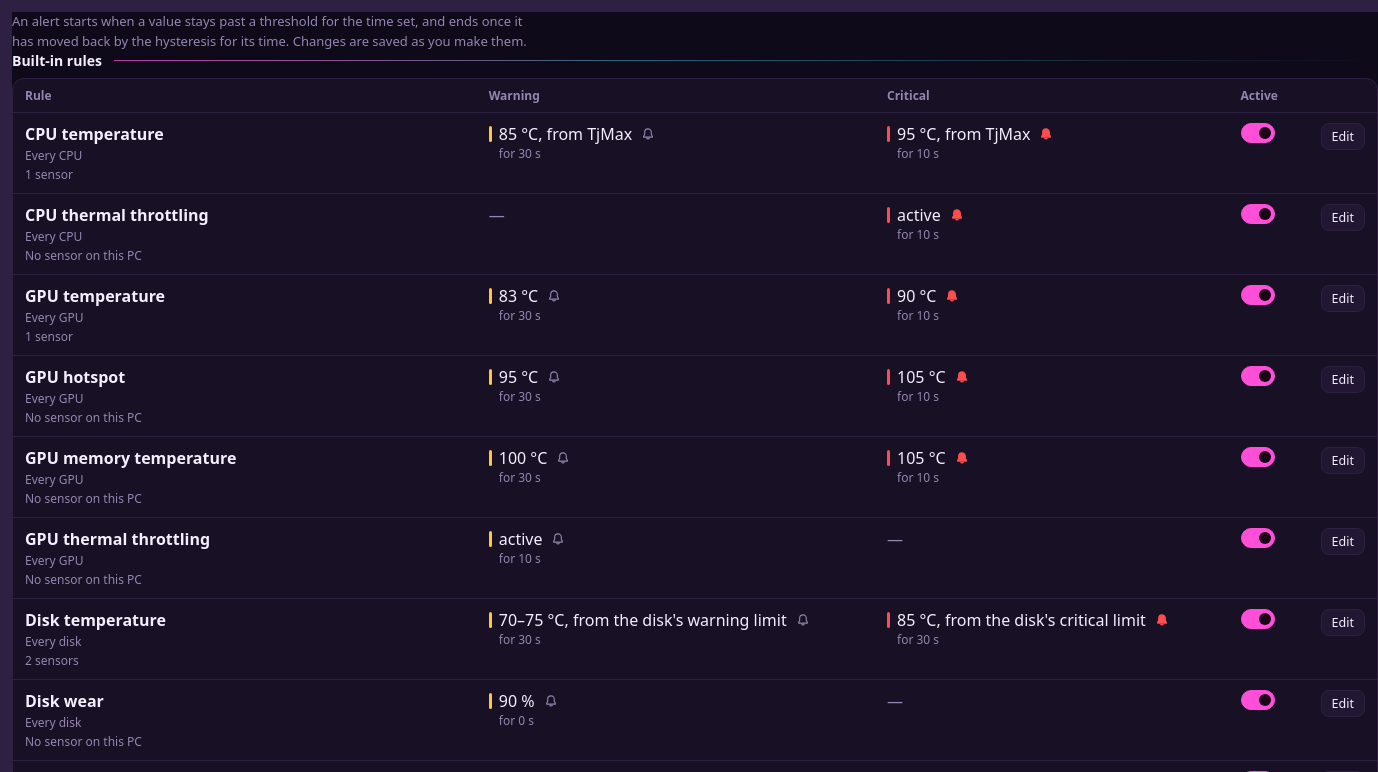
Scenario: editing_a_threshold_sends_a_fixed_override
Check: the row "GPU temperature" is shown, box [13,274,1377,356]
Click the button "Edit" in the row of "CPU temperature". click: (1343, 136)
box: [1321,123,1365,150]
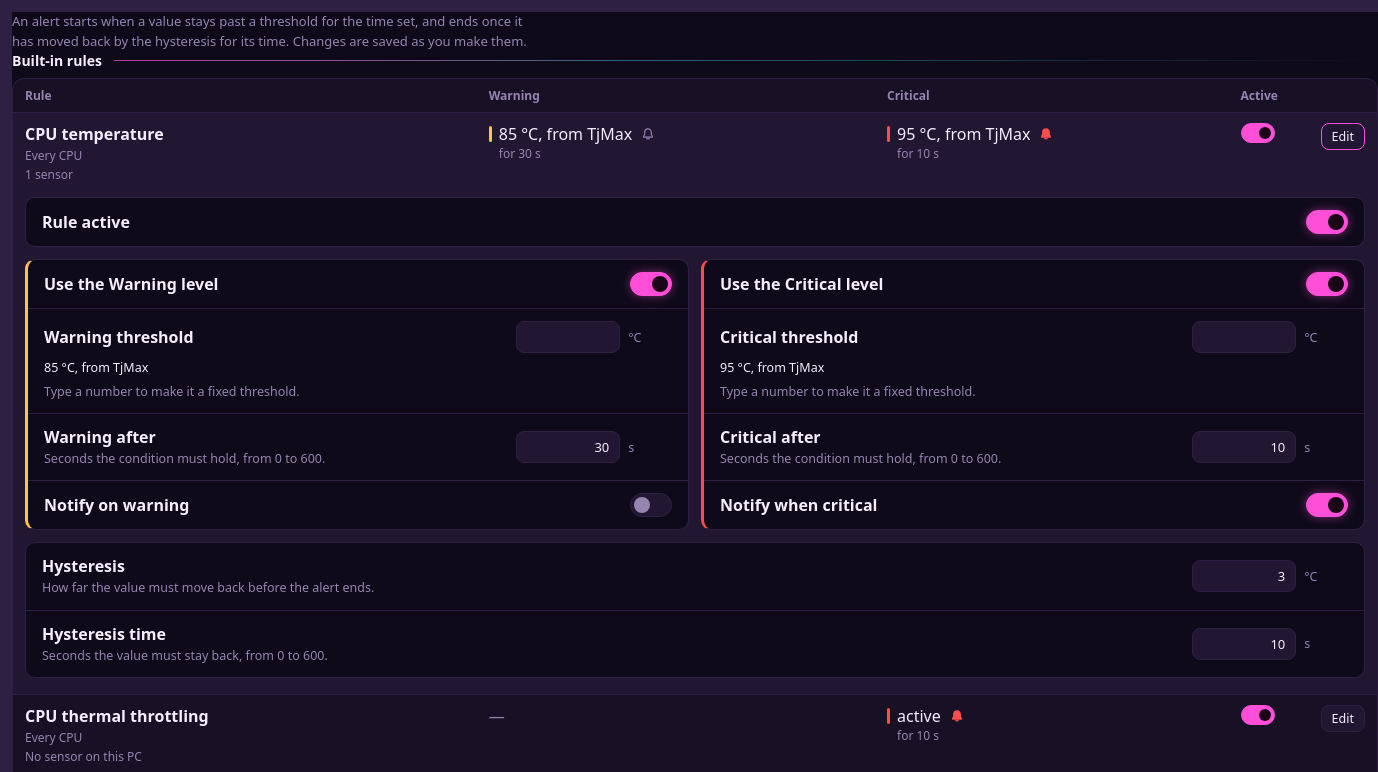
Check: the text "95 °C, from TjMax" below "Critical threshold" is shown, box [720,359,824,376]
Type "100" into the field labelled "Critical threshold". click: (1244, 337)
box: [1192,321,1296,353]
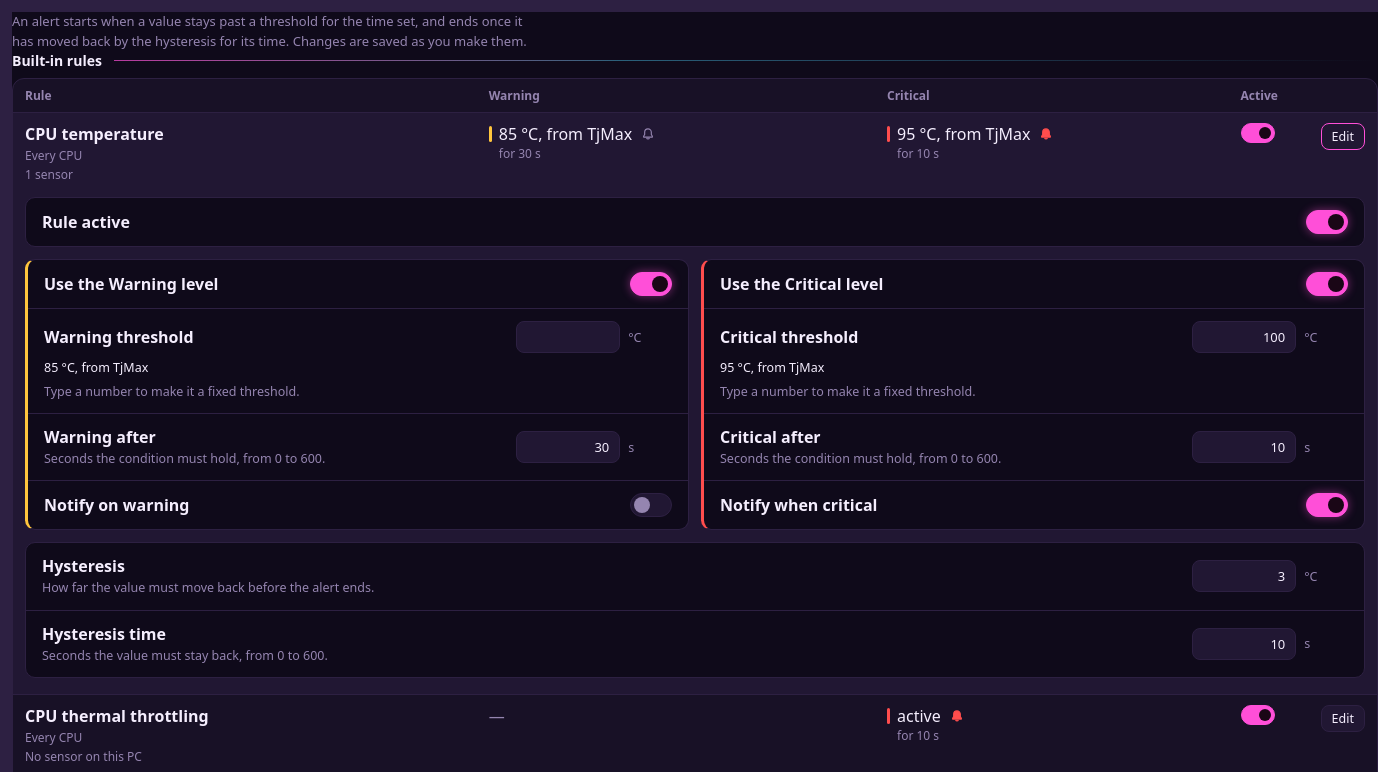
Press Enter in the field labelled "Critical threshold", box [1192,321,1296,353]
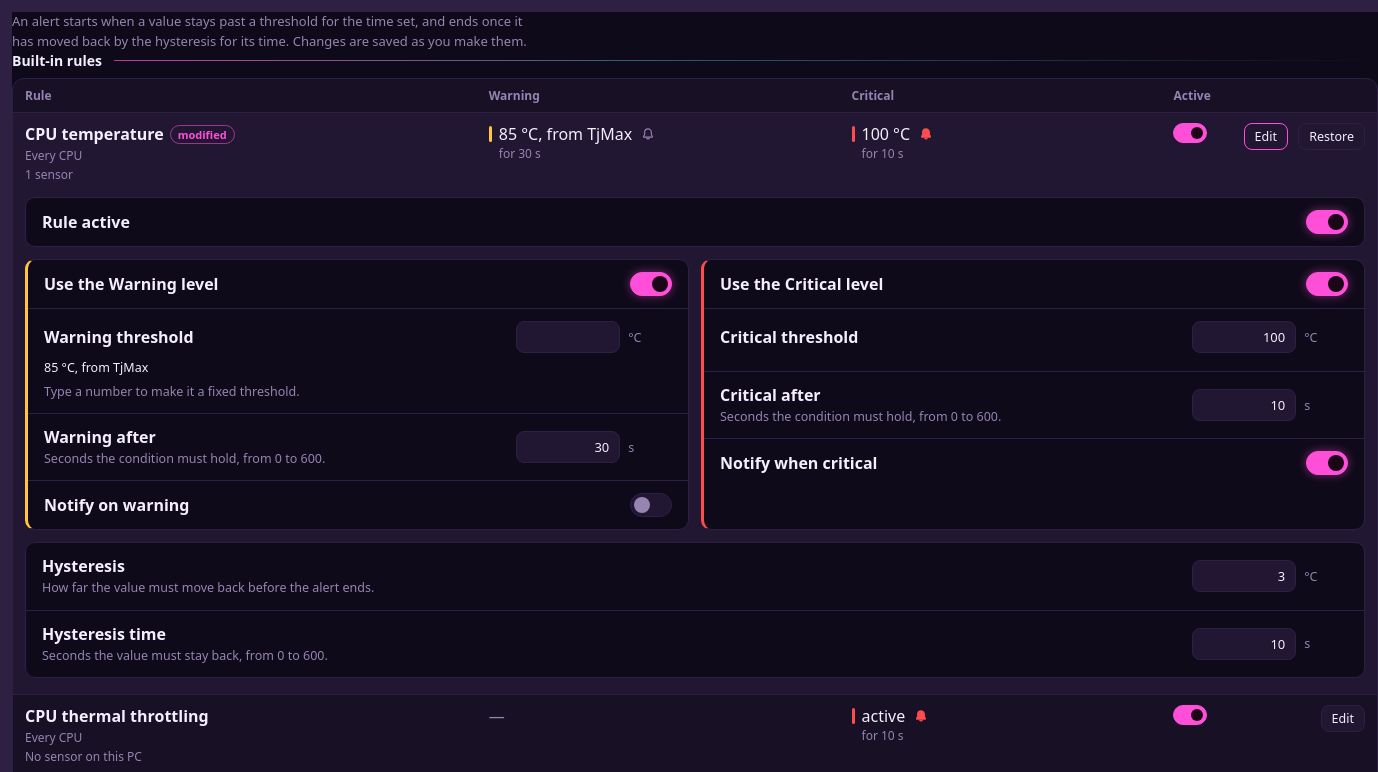
Check: the text "modified" is shown, box [170,124,235,144]
